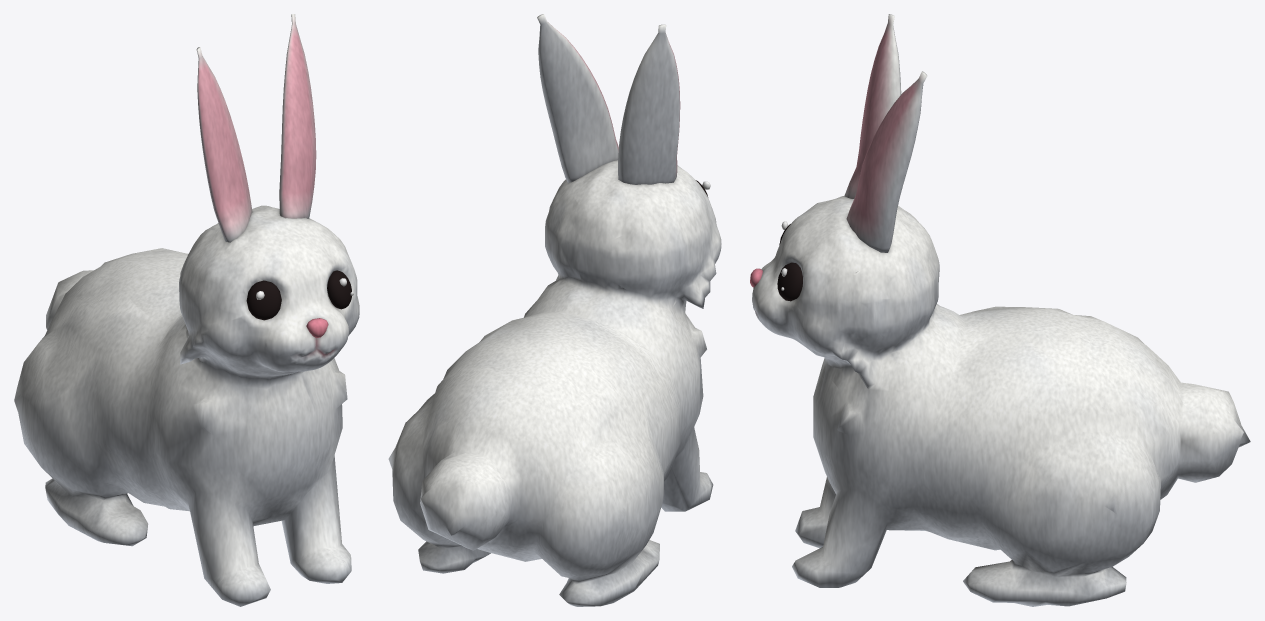
File: snowbunny.fbx
3 views of the same model, side by side, from view 1: azimuth 30°, elevation 25°; view 2: azimuth 150°, elevation 25°; view 3: azimuth 270°, elevation 25° (orthographic). The views are drawn at different scales.
Parts seen in each view (by area): view 1: SnowBunny_Body, SnowBunny_Eyes; view 2: SnowBunny_Body; view 3: SnowBunny_Body, SnowBunny_Eyes.
Boxes of the visible parts, <box> form: SnowBunny_Body: <box>14,14,359,606</box>; SnowBunny_Eyes: <box>246,270,351,320</box>; SnowBunny_Body: <box>388,14,721,606</box>; SnowBunny_Body: <box>750,14,1250,606</box>; SnowBunny_Eyes: <box>777,224,802,301</box>.
Size of the model in its own units: 1.6 by 3.25 by 2.8.
Materials: 2 (1 with a texture image).
